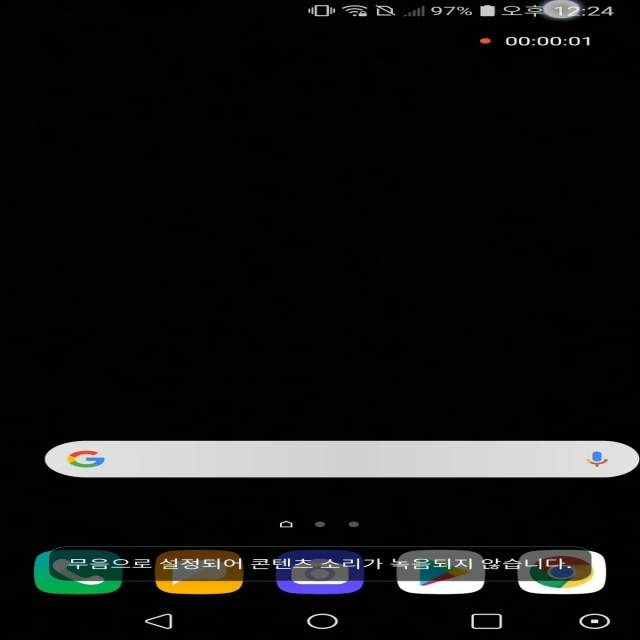Cursor: (539, 1, 584, 23)
